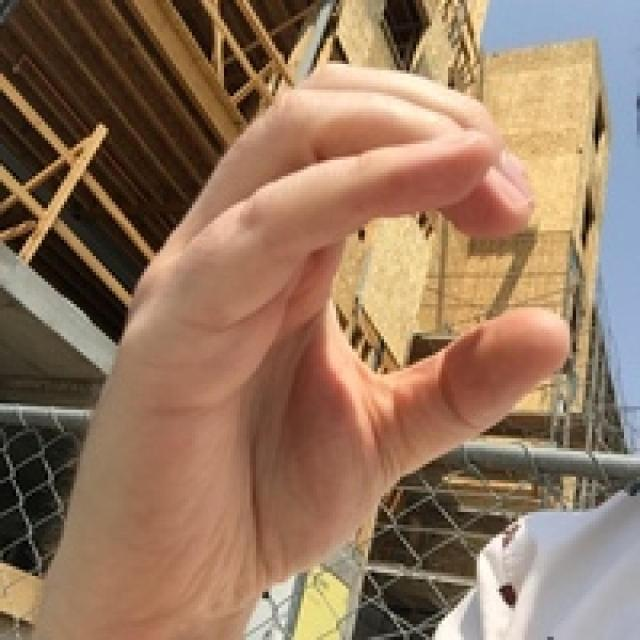C: (44, 42, 588, 632)
